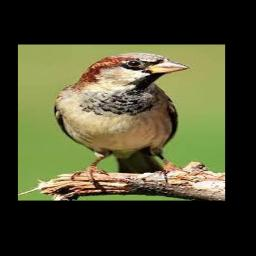Sparrow: (54, 53, 190, 185)
